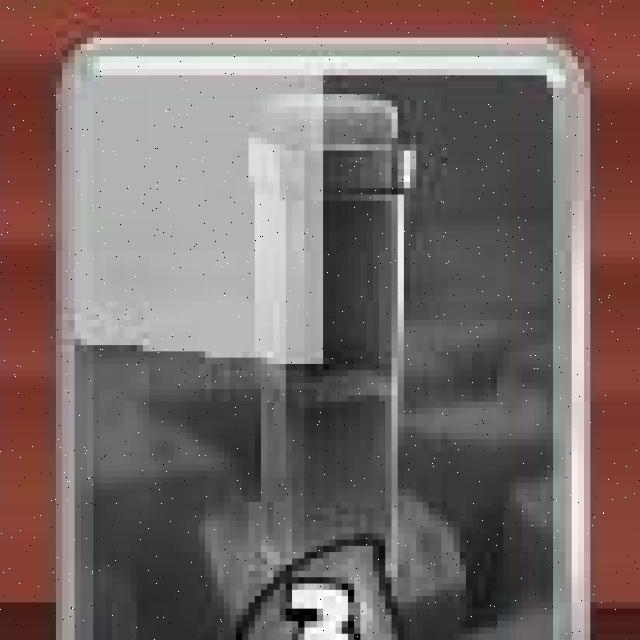Earthquake: (53, 40, 601, 640)
